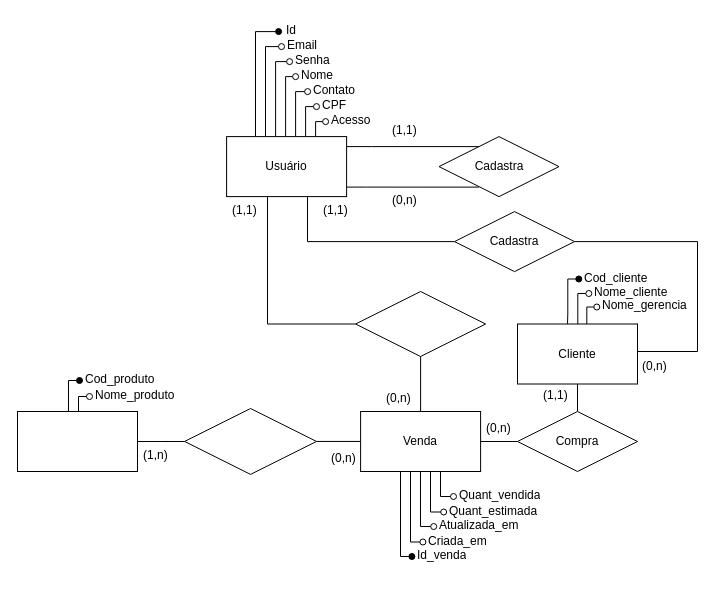
Some shapes in this 716 by 592 pixel diagram are drawn without their labels. The centre of each missing label's shape, as x and y in pixels:
Efetua: the point at 420,323
Está contido: the point at 250,441
Produto: the point at 77,441
